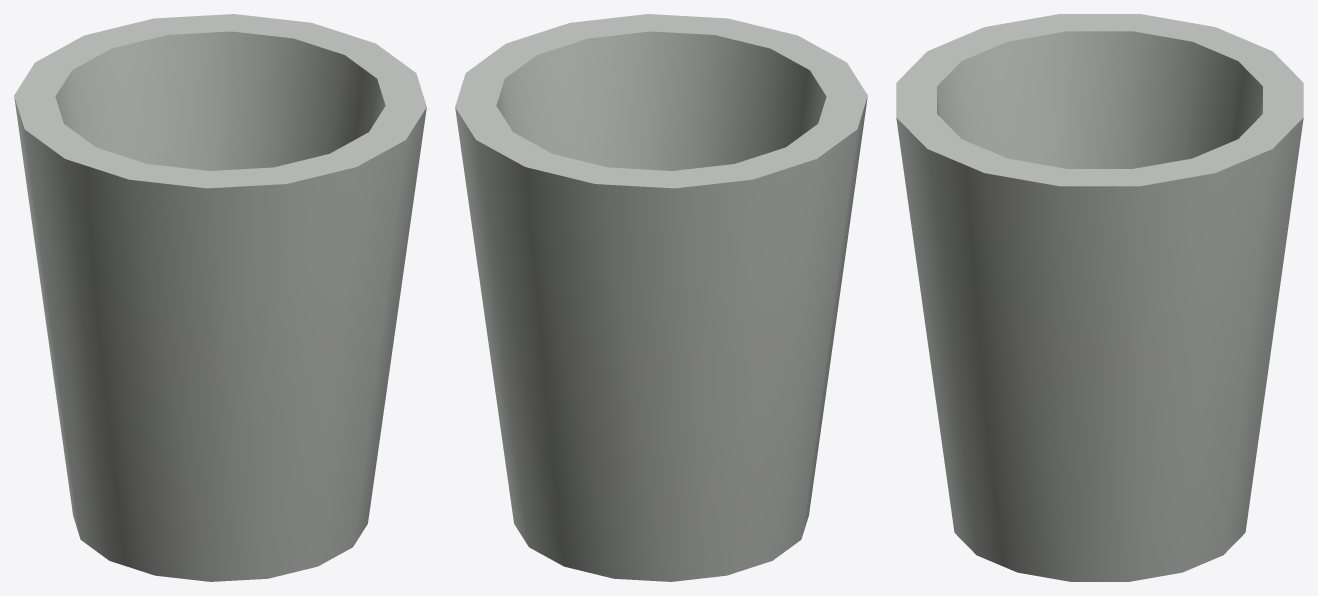
File: Small_trashcan.fbx
3 views of the same model, side by side, from view 1: azimuth 30°, elevation 25°; view 2: azimuth 150°, elevation 25°; view 3: azimuth 270°, elevation 25° (orthographic).
Parts seen in each view (by area): view 1: Small_trashcan; view 2: Small_trashcan; view 3: Small_trashcan.
Boxes of the visible parts, <box> form: Small_trashcan: <box>14,14,426,581</box>; Small_trashcan: <box>455,14,867,581</box>; Small_trashcan: <box>896,14,1303,581</box>.
Size of the model in its own units: 46.14 by 52.5 by 46.14.
